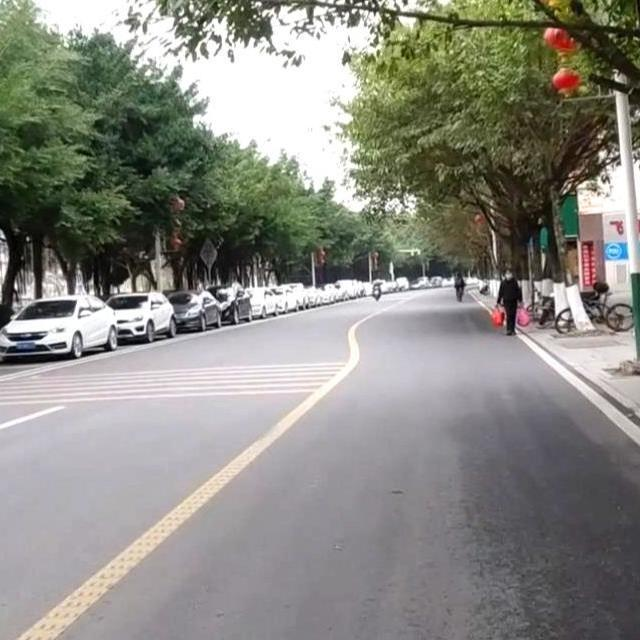curb: (518, 326, 639, 426)
